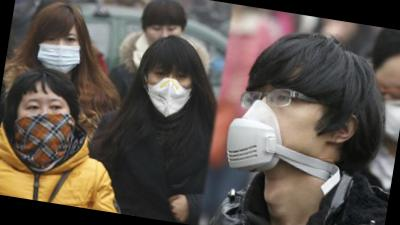with_mask: (221, 68, 350, 193), (8, 91, 83, 172), (139, 61, 198, 122), (35, 26, 85, 75), (372, 78, 400, 147)
without_mask: (143, 20, 186, 52)
